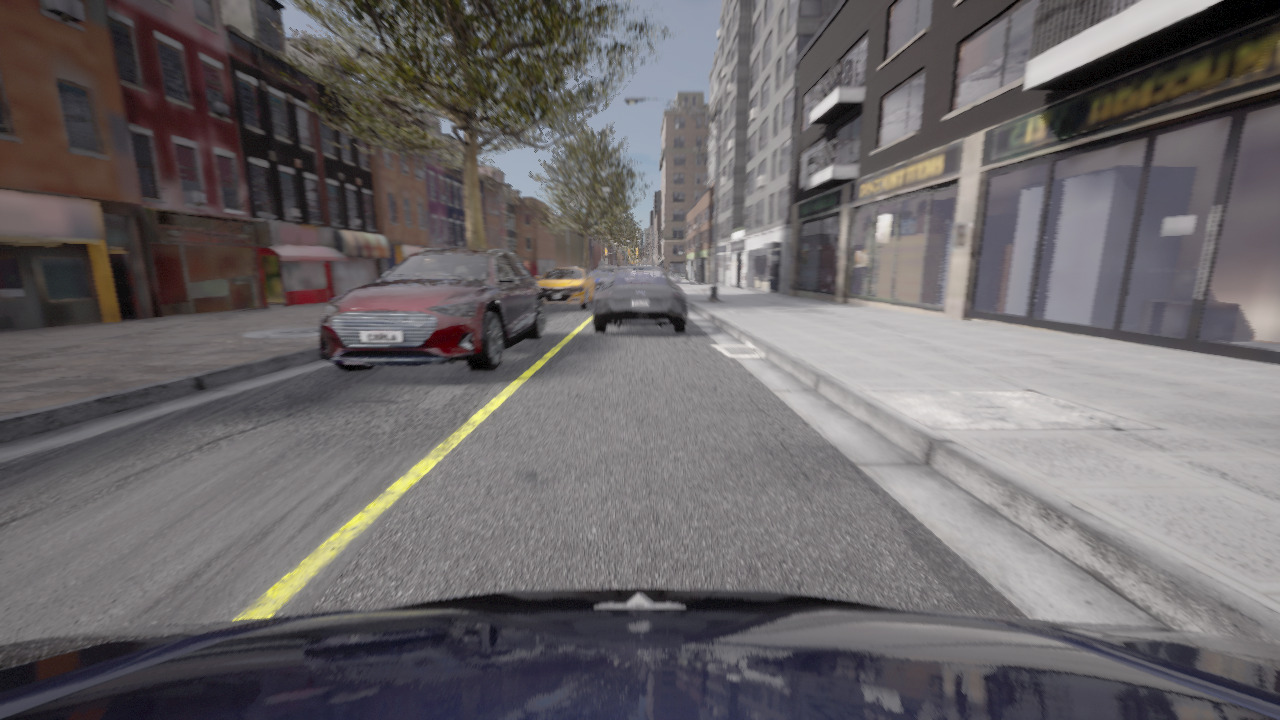cyclist: (0, 588, 1279, 719), (320, 248, 545, 371), (592, 267, 687, 333), (536, 267, 596, 309), (590, 271, 612, 290), (598, 266, 616, 273)
